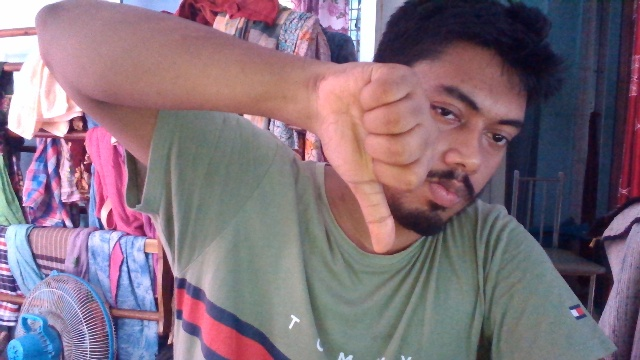no: (291, 51, 436, 273)
